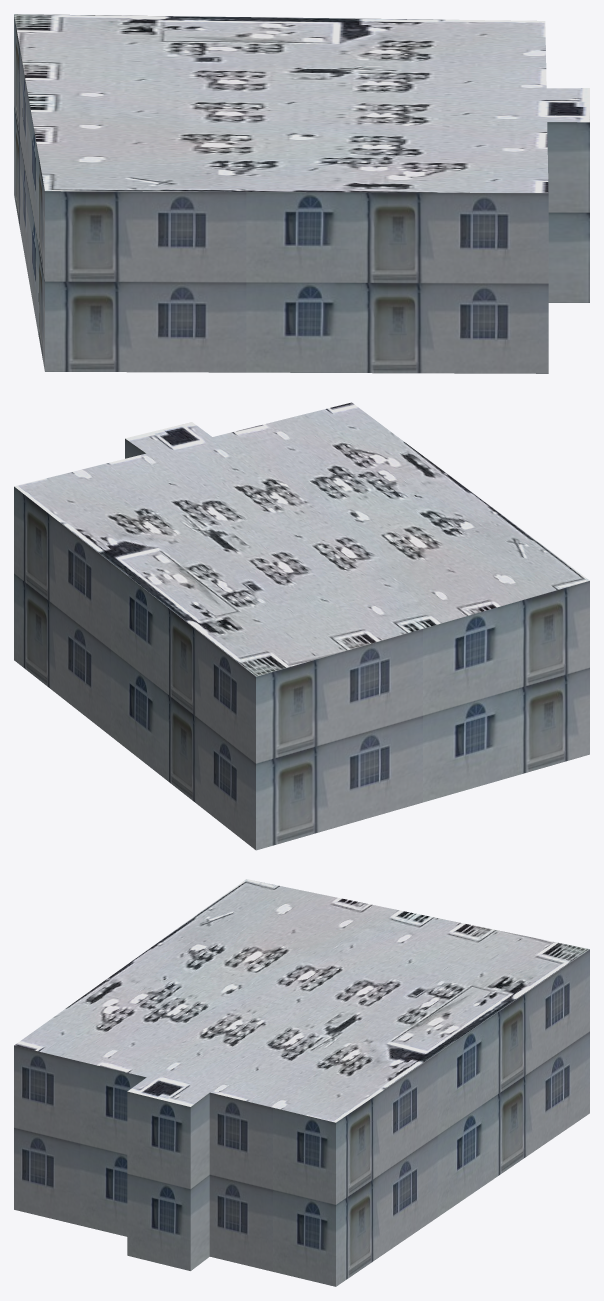
Rendered from ResTex__5098.fbx.
3 renders of one model, top to bottom at view 1: azimuth 30°, elevation 25°; view 2: azimuth 150°, elevation 25°; view 3: azimuth 270°, elevation 25°, orthographic. The views are drawn at different scales.
Parts seen in each view (by area): view 1: CityEngineMaterial_17_m, CityEngineMaterial_4_m; view 2: CityEngineMaterial_17_m, CityEngineMaterial_4_m; view 3: CityEngineMaterial_17_m, CityEngineMaterial_4_m.
Part boxes in pixels (box(x1,y1,x2,y2)): CityEngineMaterial_17_m: box(14, 15, 589, 373); CityEngineMaterial_4_m: box(14, 14, 589, 192); CityEngineMaterial_17_m: box(14, 438, 589, 850); CityEngineMaterial_4_m: box(14, 402, 589, 676); CityEngineMaterial_17_m: box(14, 949, 589, 1286); CityEngineMaterial_4_m: box(14, 879, 589, 1122).
Bounding box in the file's own units: 19.1 × 6 × 19.08.
2 materials, 2 textured.
